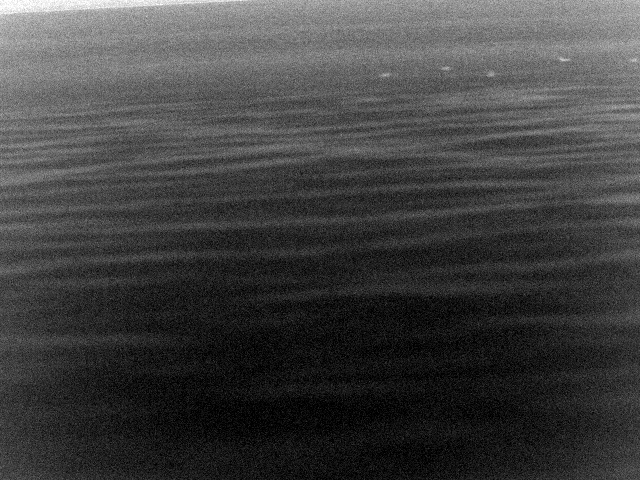dim target: (558, 57, 570, 63), (628, 56, 638, 63), (486, 70, 494, 78), (441, 65, 450, 72), (379, 72, 391, 77)
